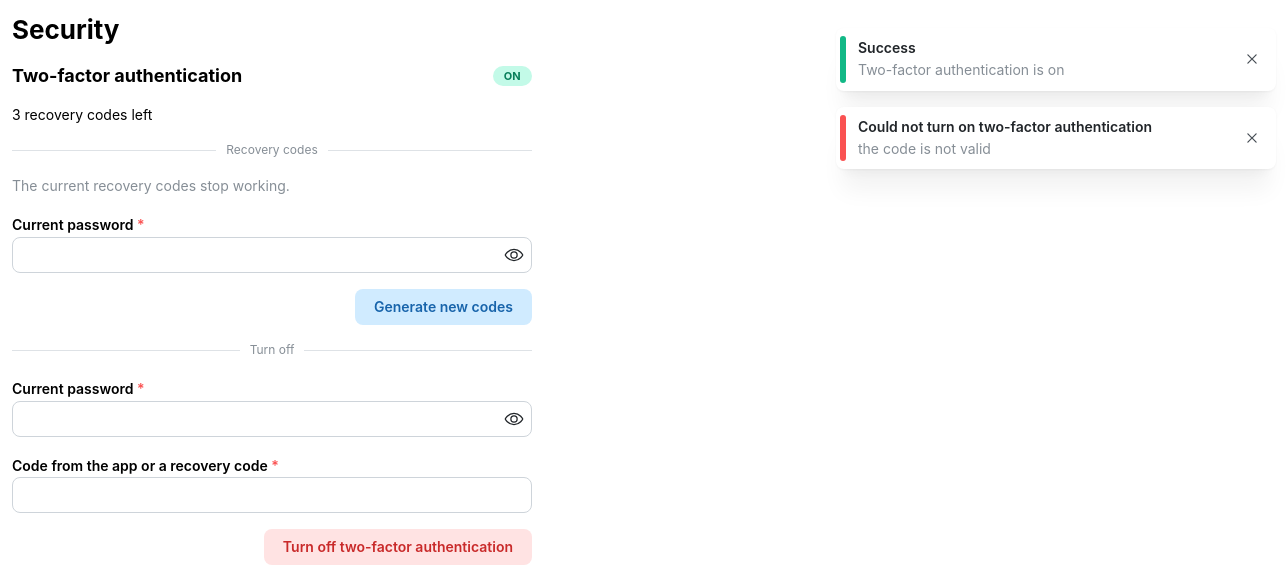
disables the second factor with the password and a code
Type "pw-123456" into the 2nd password field labelled "Current password *" at (272, 419), box [13,402,531,436]
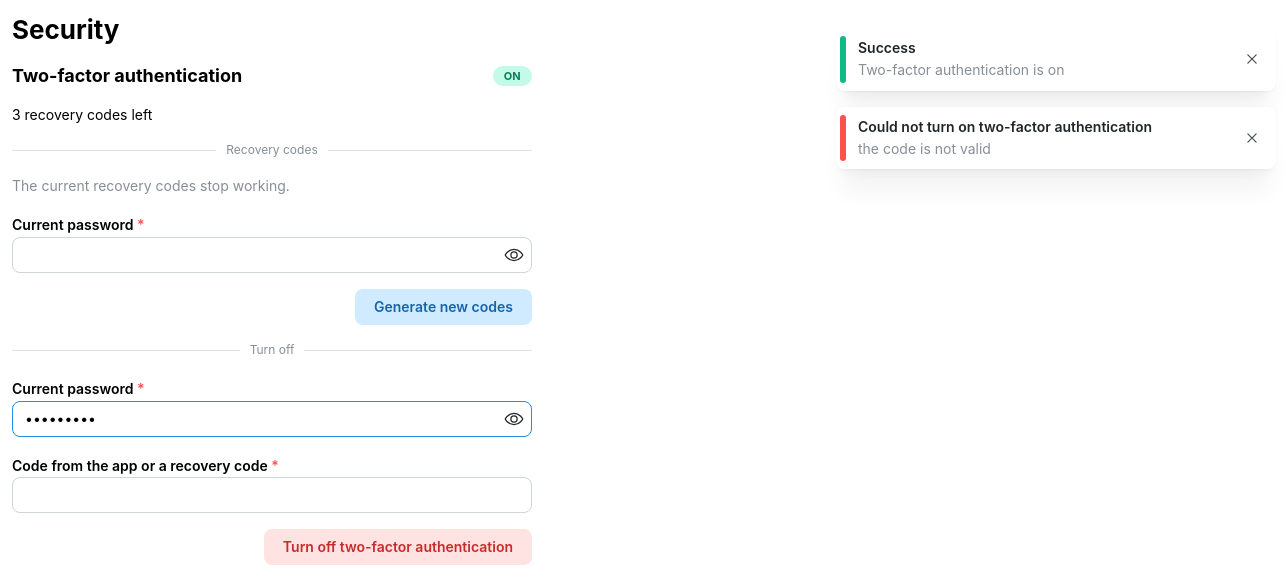
Type "654321" into the field labelled "Code from the app or a recovery code *" at (272, 495), box [12,477,532,513]
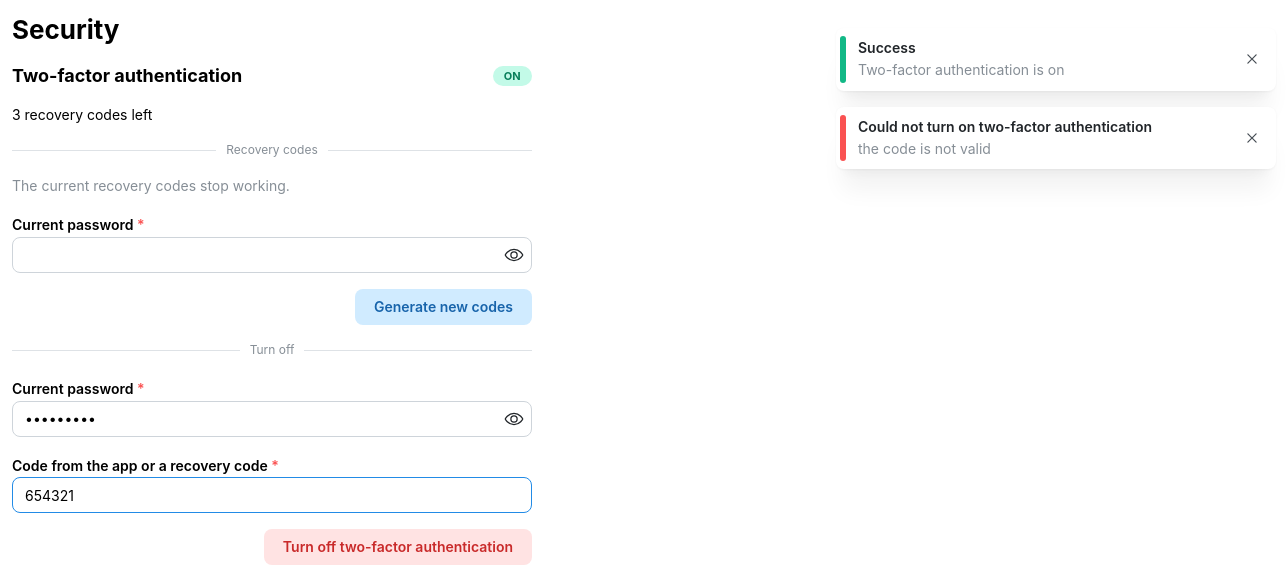
Click the button "Turn off two-factor authentication" at (398, 547), box [264,529,532,565]
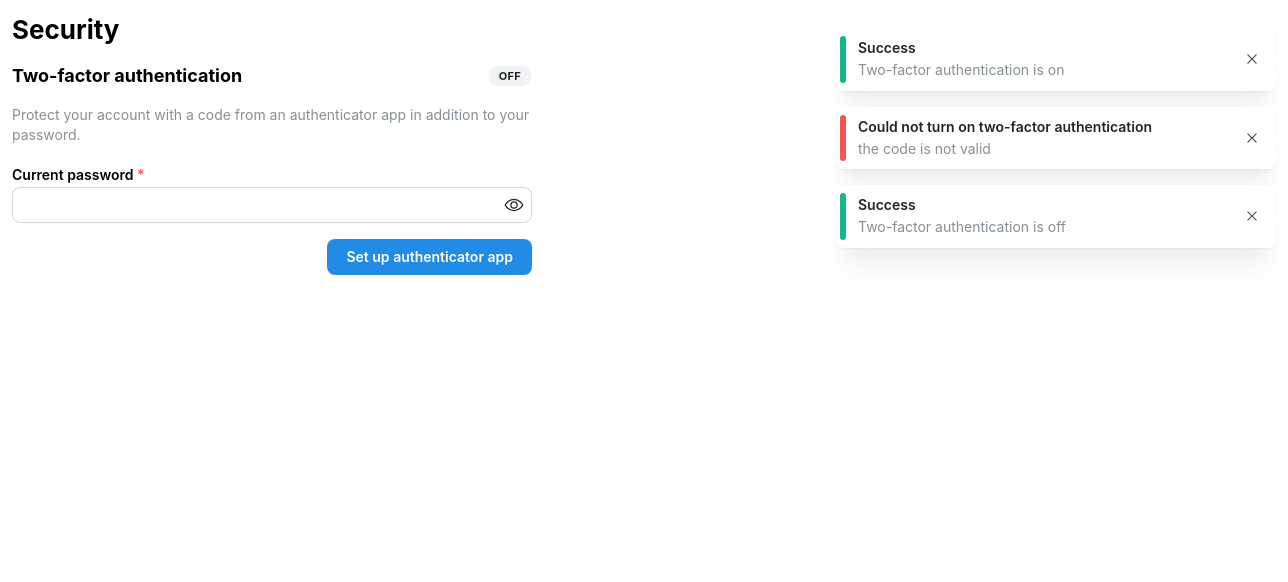
Expected: the text "Two-factor authentication is off" is shown, [858,218,1066,236]
Expected: the button "Set up authenticator app" is shown, [327,239,532,275]
